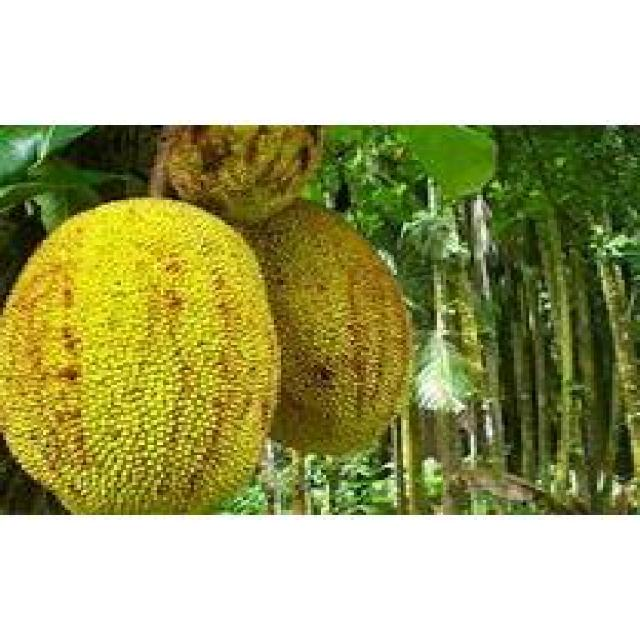Fruit: (0, 180, 295, 515), (237, 172, 431, 478)
